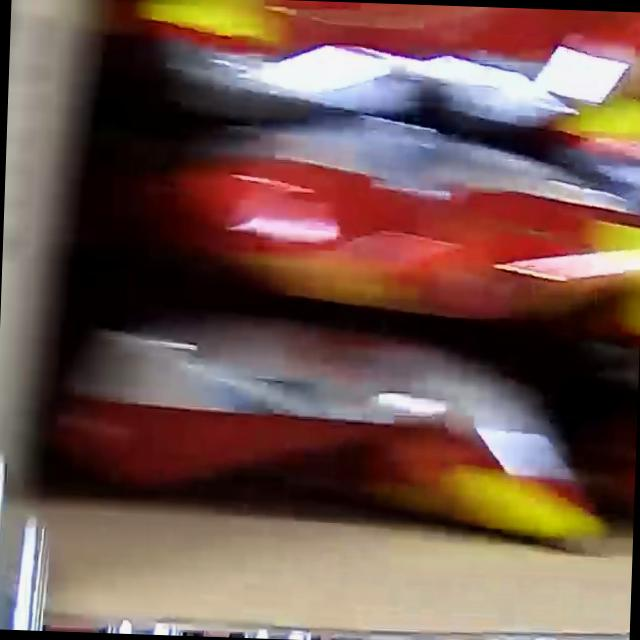masala: (36, 0, 640, 544)
